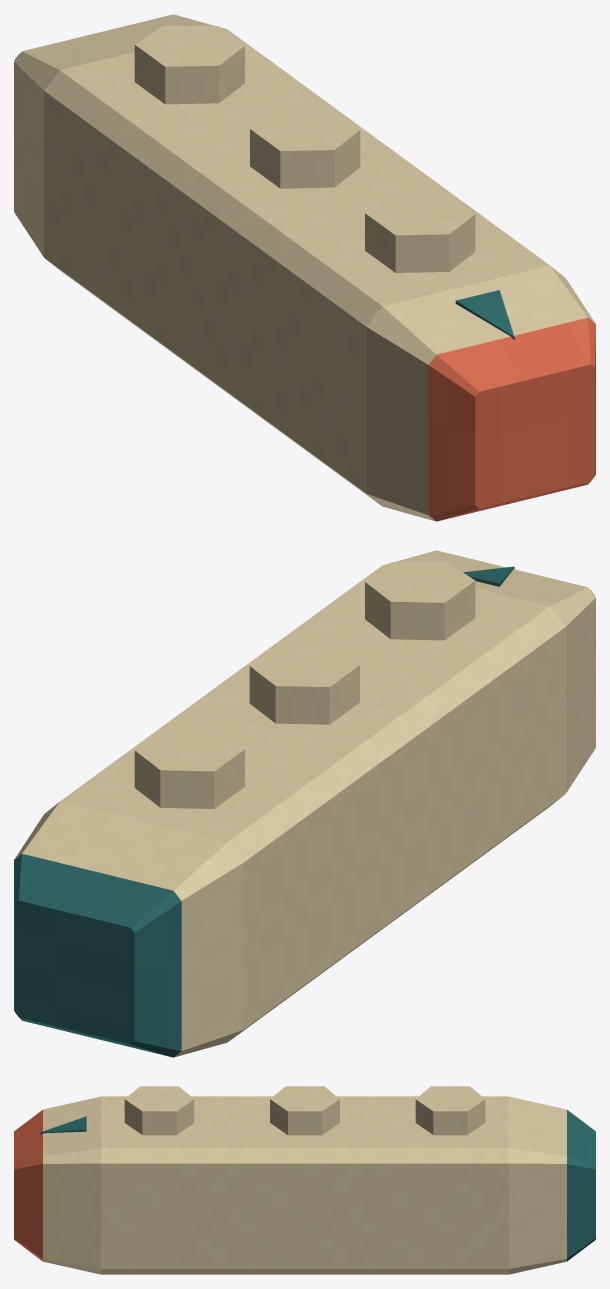
File: pontoon-lod-2.glb
The picture shows the model from 3 angles, top to bottom: view 1: azimuth 30°, elevation 25°; view 2: azimuth 150°, elevation 25°; view 3: azimuth 270°, elevation 25°; orthographic projection. The views are drawn at different scales.
Visible parts, largest first — view 1: pontoon_shell_lod2; view 2: pontoon_shell_lod2; view 3: pontoon_shell_lod2.
Part boxes in pixels (x1=…): pontoon_shell_lod2: x1=14, y1=14, x2=595, y2=521; pontoon_shell_lod2: x1=14, y1=550, x2=595, y2=1057; pontoon_shell_lod2: x1=14, y1=1086, x2=595, y2=1274.
Size of the model in its own units: 1 by 1.14 by 4.
Materials: 1 (1 with a texture image).
